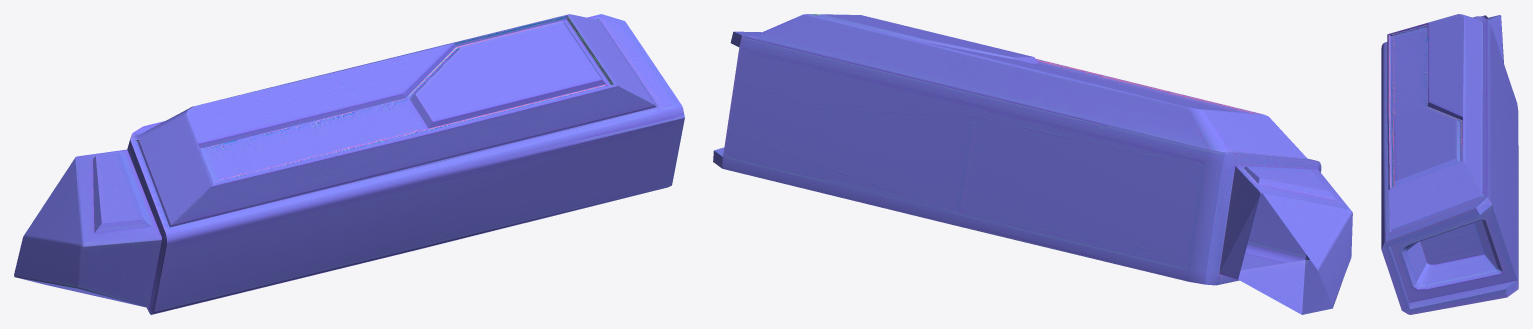
File: KDK_GUNS_B_Part.fbx
3 renders of one model, left to right at view 1: azimuth 30°, elevation 25°; view 2: azimuth 150°, elevation 25°; view 3: azimuth 270°, elevation 25°, orthographic. The views are drawn at different scales.
Parts seen in each view (by area): view 1: KDK_Gun_B_03_Part; view 2: KDK_Gun_B_03_Part; view 3: KDK_Gun_B_03_Part.
Boxes of the visible parts, box(x1,y1,x2,y2) form: KDK_Gun_B_03_Part: box(14, 14, 684, 314); KDK_Gun_B_03_Part: box(713, 14, 1352, 314); KDK_Gun_B_03_Part: box(1381, 14, 1518, 314).
Bounding box in the file's own units: 3.47 × 0.904 × 0.8705.
